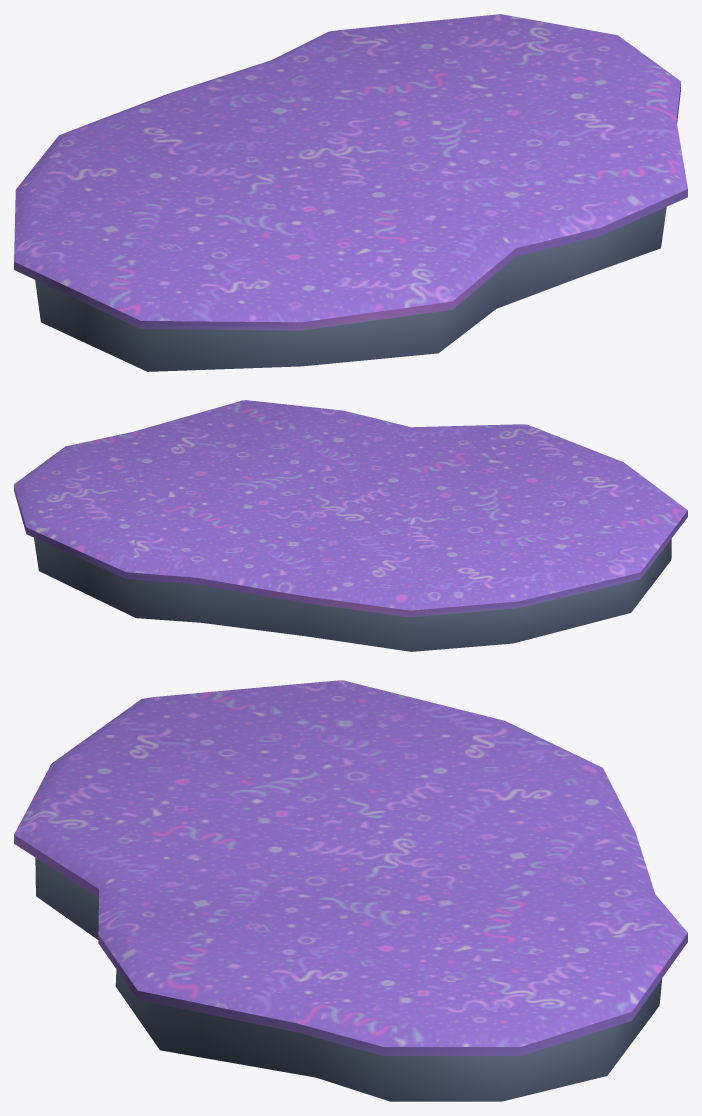
Rendered from Fbx_BowlingIslands.fbx_Island1.fbx.
The picture shows the model from 3 angles, top to bottom: view 1: azimuth 30°, elevation 25°; view 2: azimuth 150°, elevation 25°; view 3: azimuth 270°, elevation 25°; orthographic projection. The views are drawn at different scales.
Parts seen in each view (by area): view 1: BowlingIsland1; view 2: BowlingIsland1; view 3: BowlingIsland1.
Part boxes in pixels (x1,y1,x2,y2): BowlingIsland1: (14, 14, 687, 371); BowlingIsland1: (14, 400, 687, 651); BowlingIsland1: (14, 680, 687, 1101).
Bounding box in the file's own units: 17.37 × 1.8 × 13.51.
